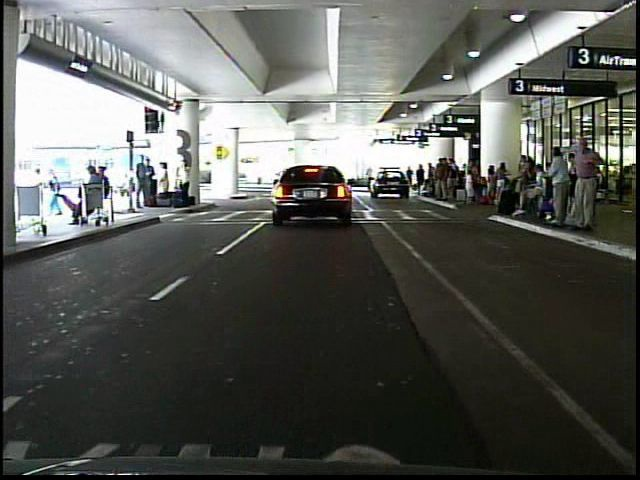person: (566, 134, 606, 236), (545, 144, 572, 230), (36, 162, 57, 220), (130, 152, 150, 209), (178, 158, 193, 205), (160, 160, 175, 205), (415, 160, 427, 197), (406, 160, 416, 194)
